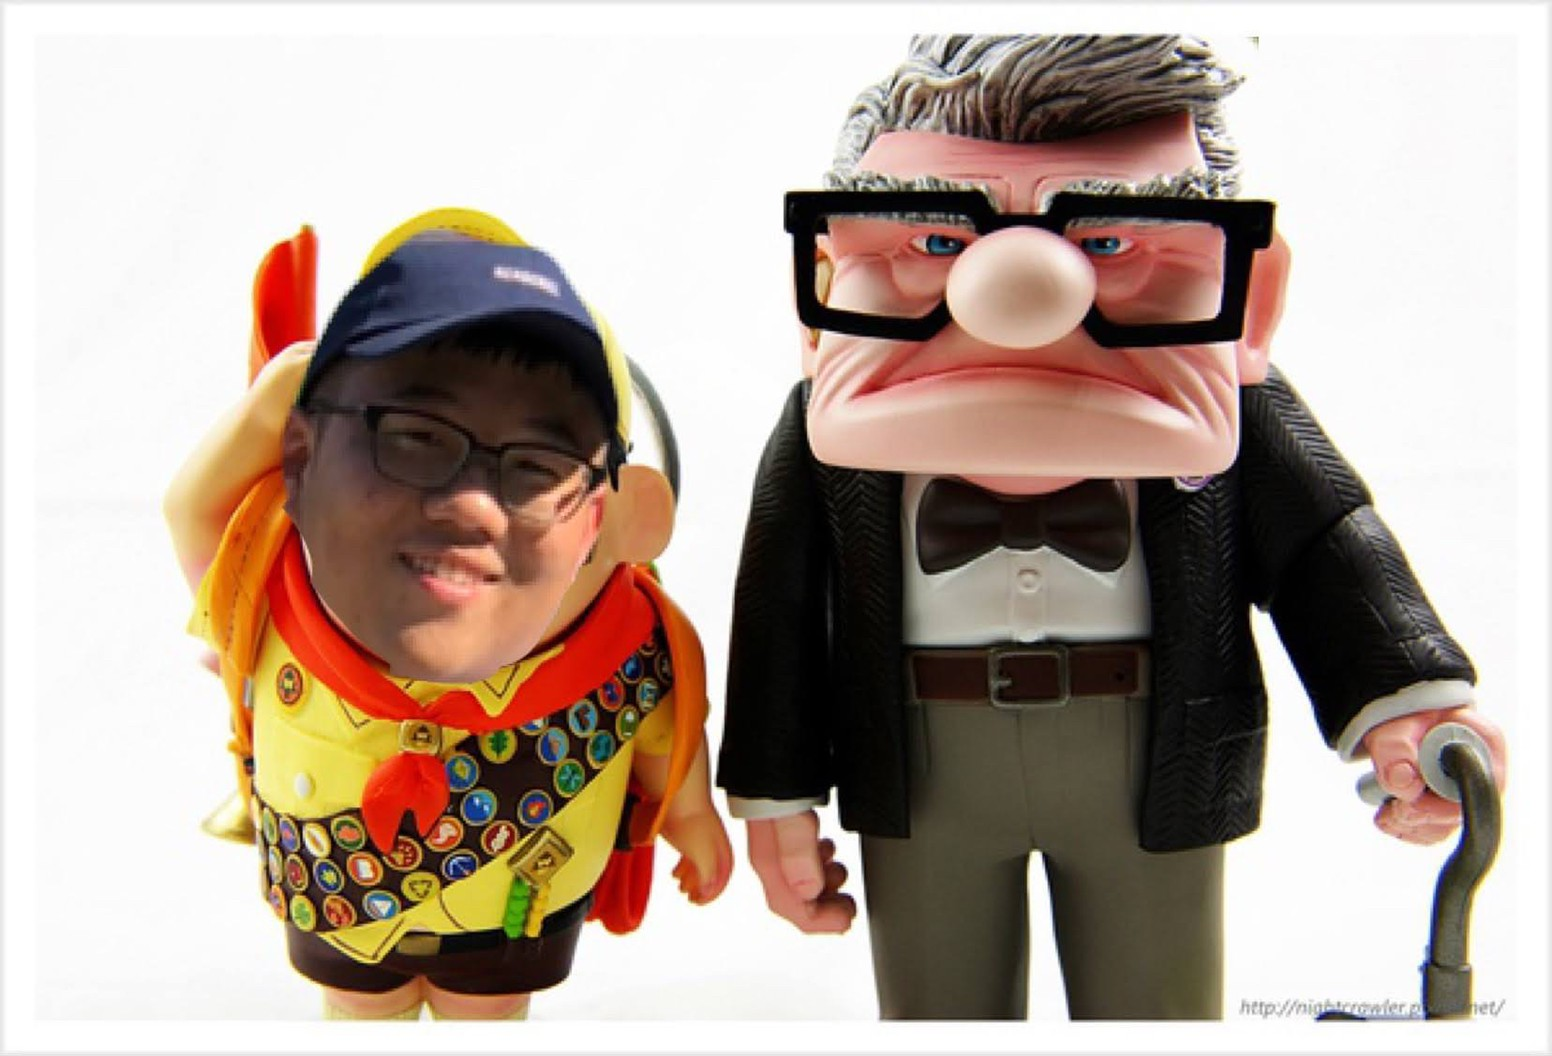people: (817, 58, 1255, 1020), (277, 229, 619, 1051)
